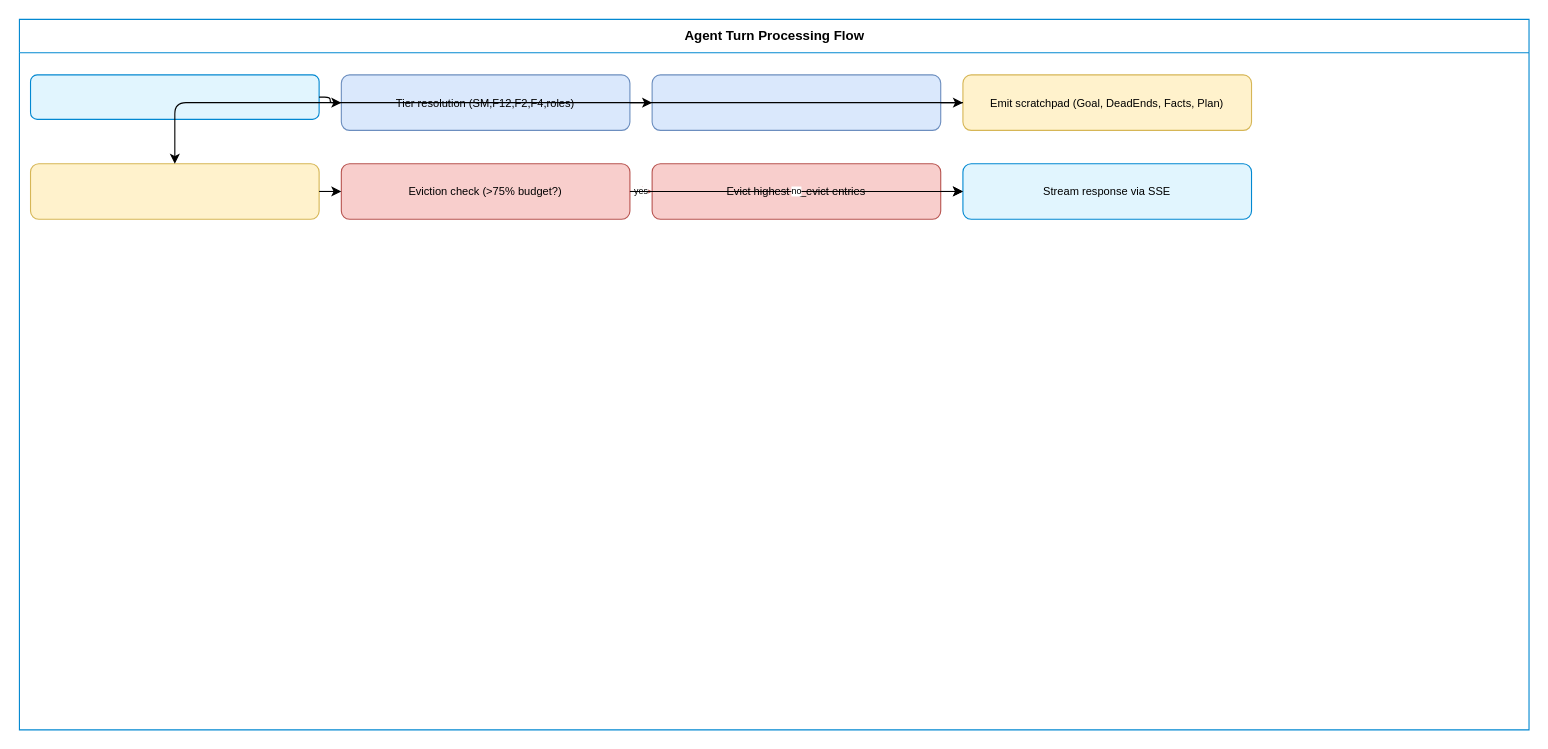
The diagram is 1548 pixels wide and 749 high, and some of its shapes have lost their labels. The shapes that lost their labels are listed below. From the top down, each one's centre as x and y in pixels, then its label:
(174,96): resolveContextBudget()
(796,102): Snapshot-scoped retrieval
(174,191): Tool call execution
